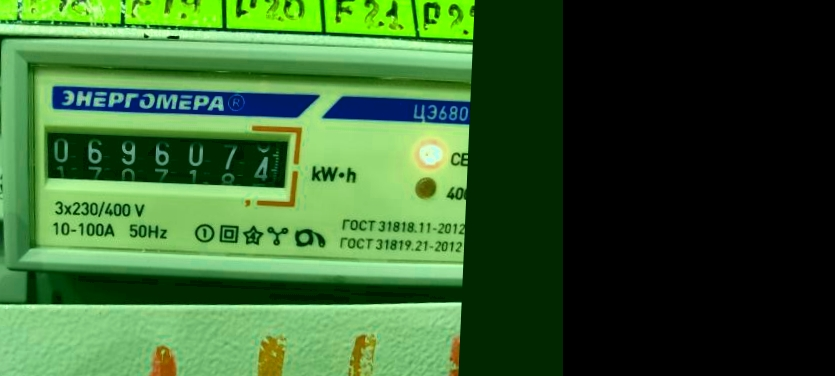0: (49, 135, 71, 164), (186, 138, 205, 168), (85, 136, 103, 163)
4: (251, 154, 270, 182)
6: (151, 136, 170, 167)
7: (219, 140, 238, 170)
9: (118, 137, 137, 166)
screen: (27, 111, 304, 207)
